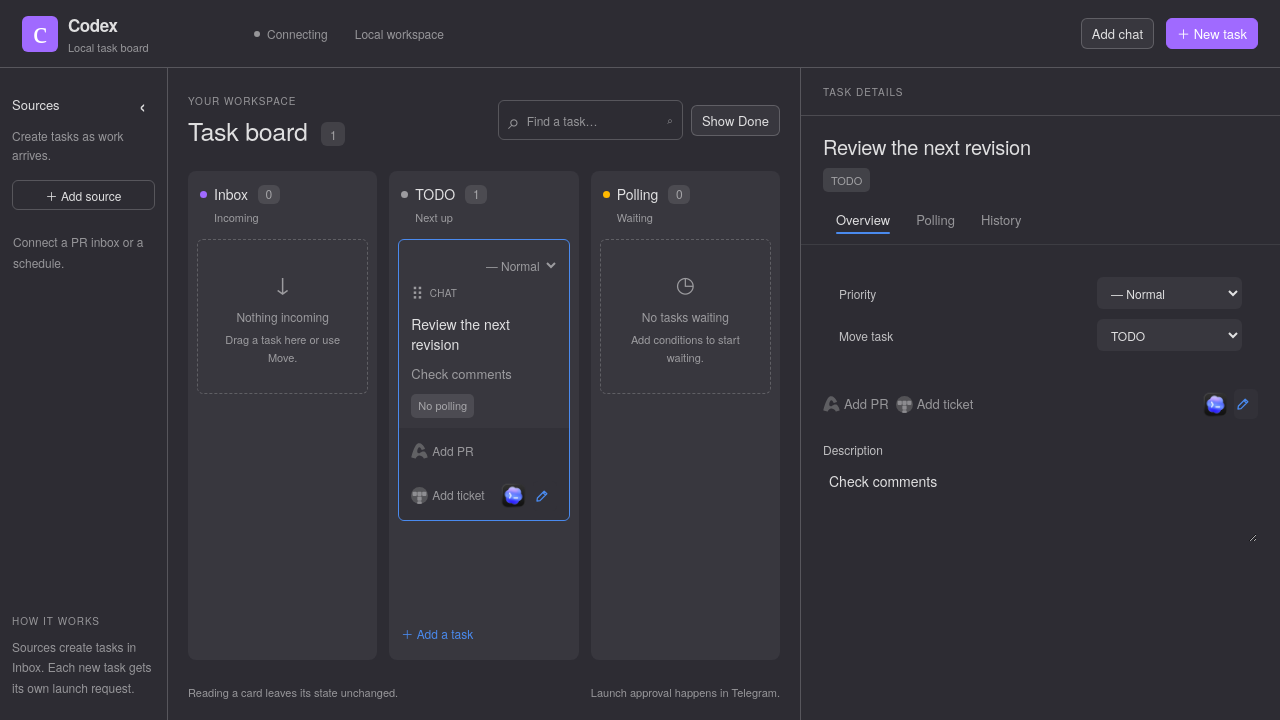
dismisses details with Escape, clears only the task URL parameter and reopens the card
This screenshot has width=1280, height=720.
Press Escape in the text box named "Title", box x1=823 y1=132 x2=1258 y2=161
Press Escape in the text box named "Title", box x1=823 y1=132 x2=1258 y2=161
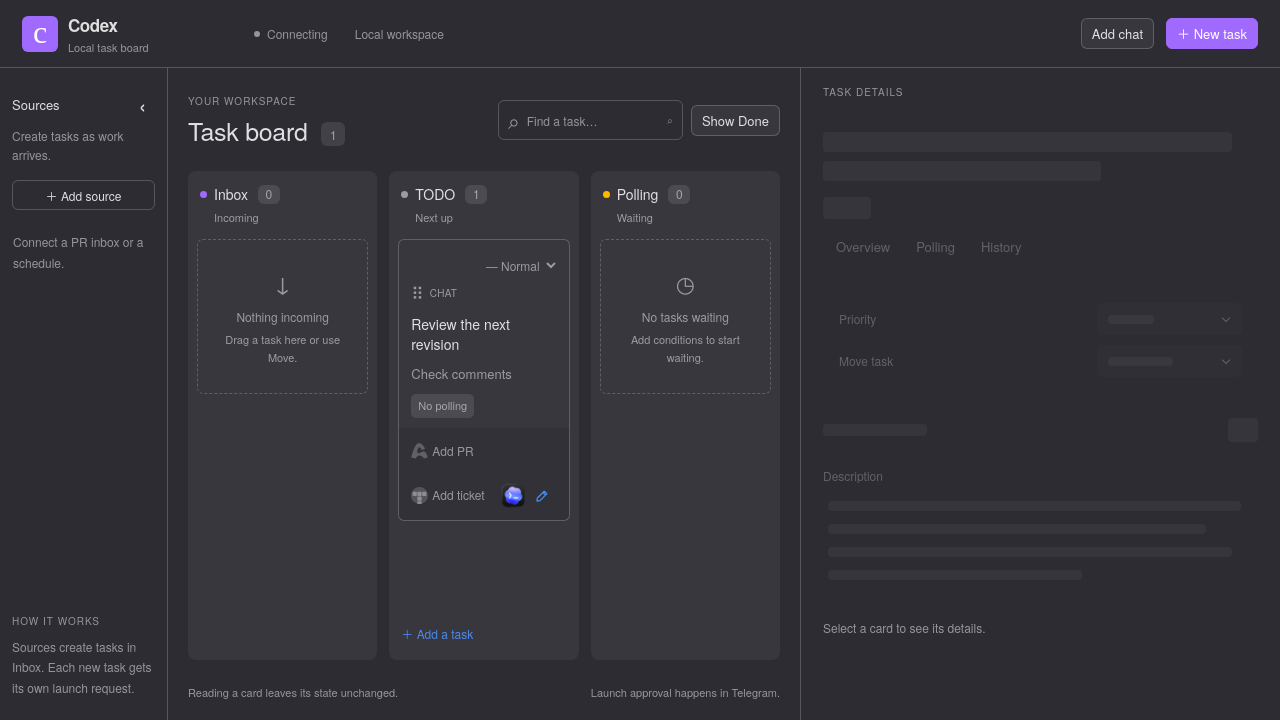
expect the text "Select a card to see its details." is shown: met, box x1=823 y1=619 x2=986 y2=636
expect the text box labelled "Title" is gone: met
Click the button "⠿ CHAT Review the next revision Check comments No polling".
click(484, 334)  # box x1=399 y1=240 x2=569 y2=428
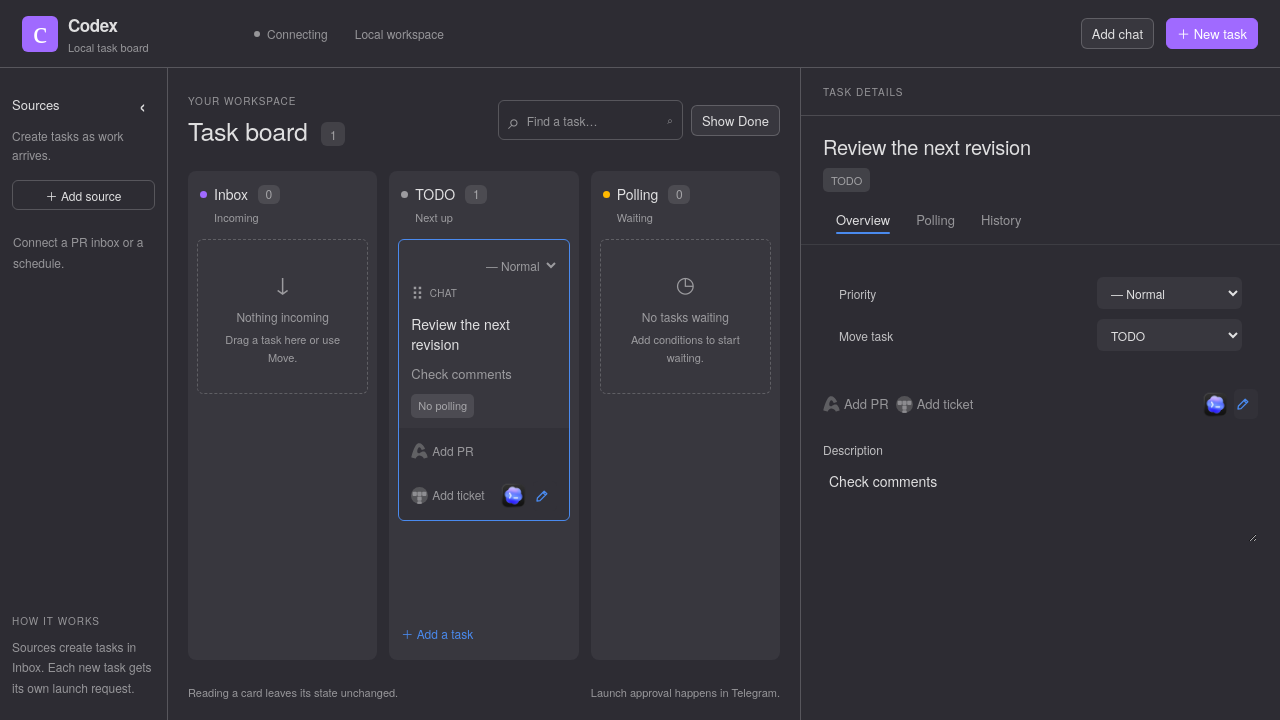
expect the text box named "Title" is shown: met, box x1=823 y1=132 x2=1258 y2=161
